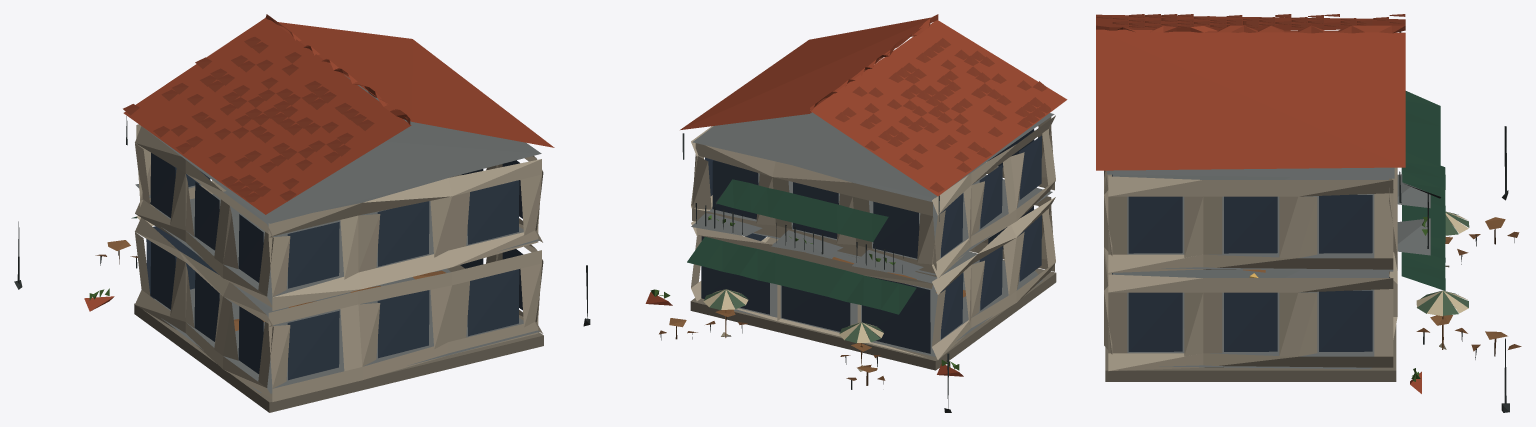
File: shop_restaurant.glb
3 views of the same model, side by side, from view 1: azimuth 30°, elevation 25°; view 2: azimuth 150°, elevation 25°; view 3: azimuth 270°, elevation 25° (orthographic). The views are drawn at different scales.
Bounding box in the file's own units: 5.52 × 3.38 × 4.6.
